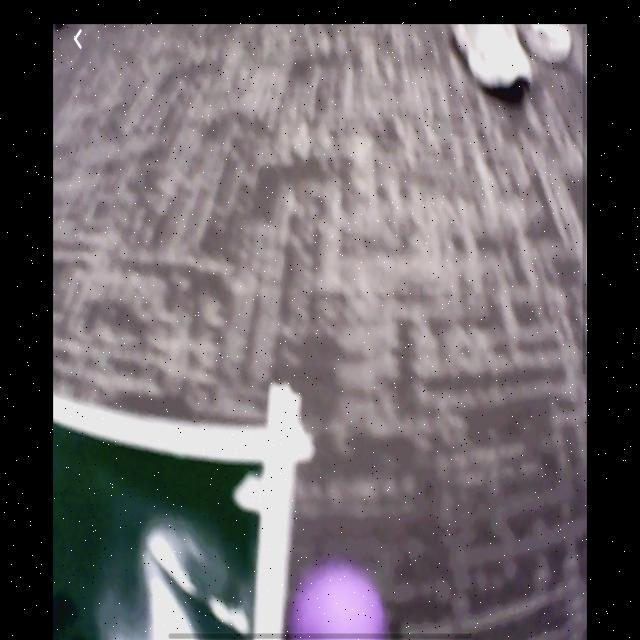ball: (286, 557, 391, 639)
